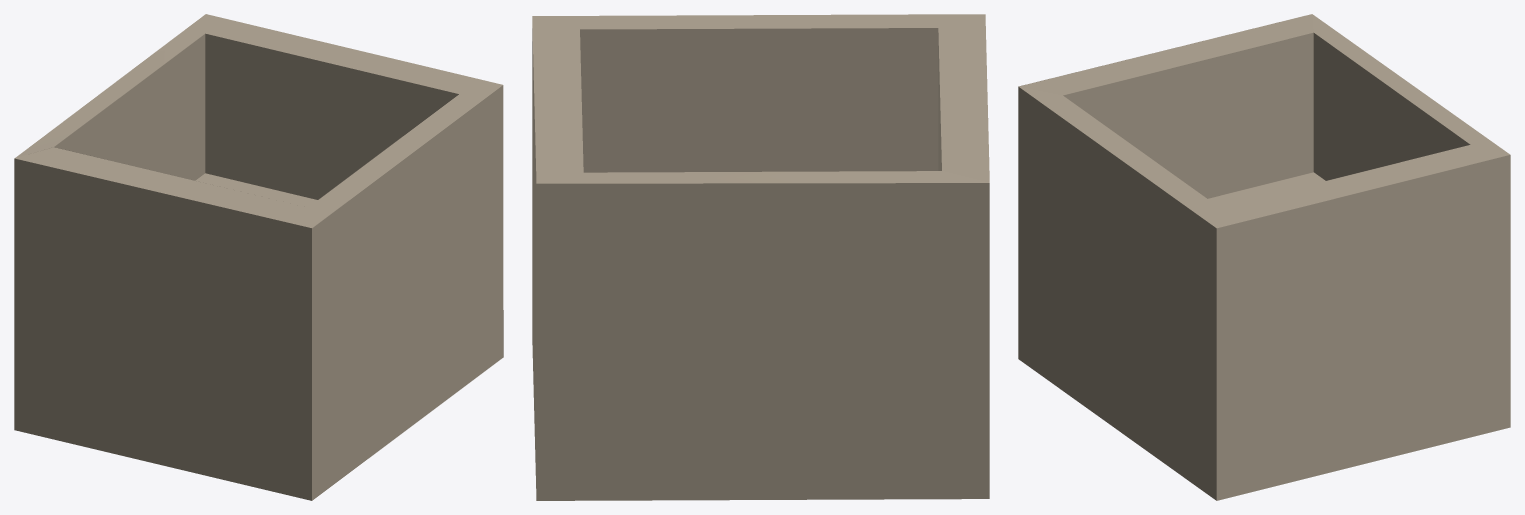
Rendered from MSH_QuestObject_cabinet_03.fbx.
The picture shows the model from 3 angles, left to right: view 1: azimuth 30°, elevation 25°; view 2: azimuth 150°, elevation 25°; view 3: azimuth 270°, elevation 25°; orthographic projection. The views are drawn at different scales.
Parts seen in each view (by area): view 1: MSH_QuestObject_cabinet_03; view 2: MSH_QuestObject_cabinet_03; view 3: MSH_QuestObject_cabinet_03.
Part boxes in pixels (left/top/right/bottom): MSH_QuestObject_cabinet_03: left=14, top=14, right=503, bottom=500; MSH_QuestObject_cabinet_03: left=532, top=14, right=989, bottom=500; MSH_QuestObject_cabinet_03: left=1018, top=14, right=1510, bottom=500.
Size of the model in its own units: 0.7466 by 0.4409 by 0.7212.
